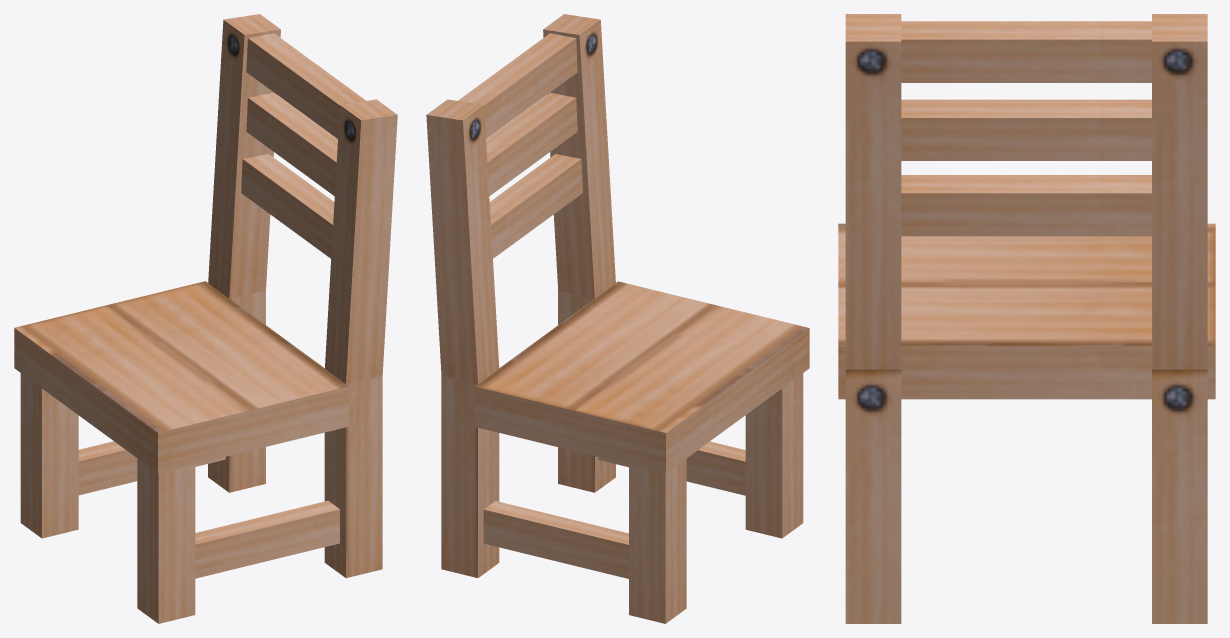
Rendered from chair.fbx.
3 renders of one model, left to right at view 1: azimuth 30°, elevation 25°; view 2: azimuth 150°, elevation 25°; view 3: azimuth 270°, elevation 25°, orthographic. The views are drawn at different scales.
Visible parts, largest first — view 1: chair; view 2: chair; view 3: chair.
Part boxes in pixels (bbox=[...]): chair: bbox=[14, 14, 397, 623]; chair: bbox=[426, 14, 809, 623]; chair: bbox=[838, 14, 1215, 623].
Size of the model in its own units: 1.52 by 2.72 by 1.56.
